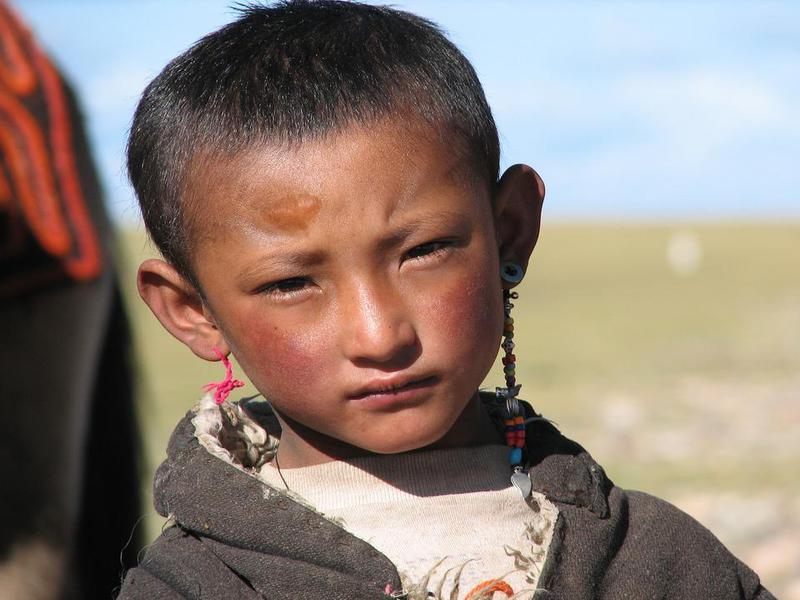person: (101, 1, 774, 600)
